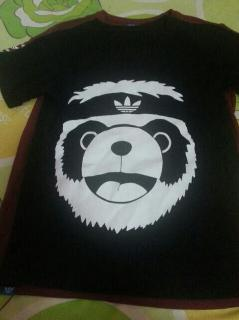short sleeve top: (0, 16, 239, 299)
